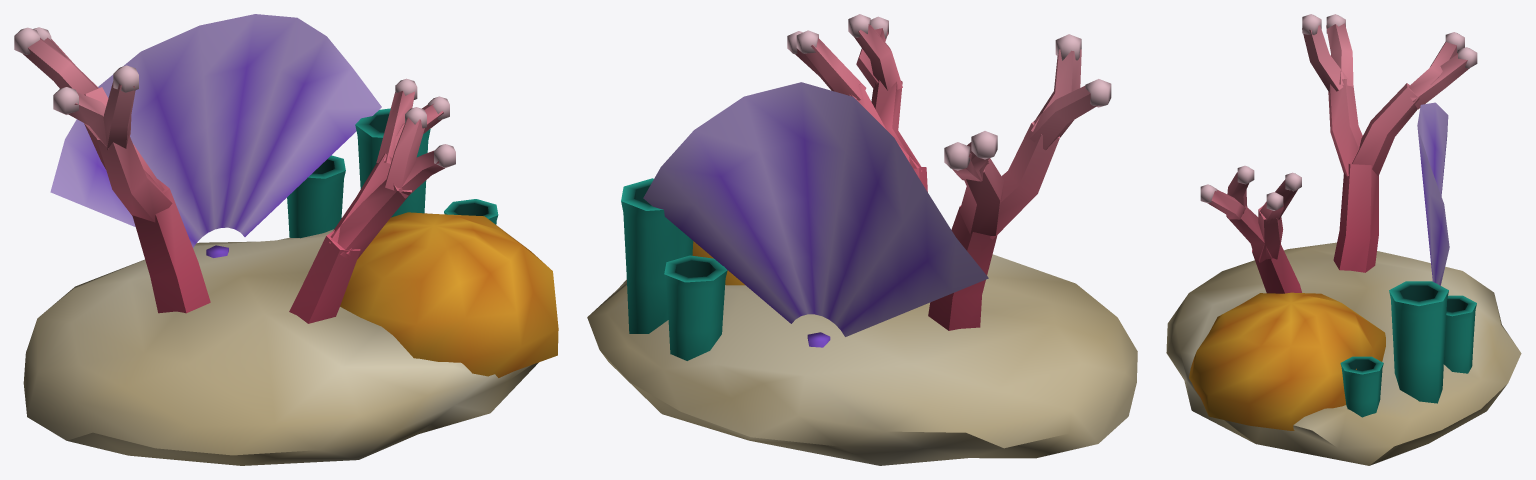
File: coral.glb
3 renders of one model, left to right at view 1: azimuth 30°, elevation 25°; view 2: azimuth 150°, elevation 25°; view 3: azimuth 270°, elevation 25°, orthographic. The views are drawn at different scales.
Visible parts, largest first — view 1: coral; view 2: coral; view 3: coral.
Part boxes in pixels (left/top/right/bottom): coral: left=14, top=14, right=558, bottom=465; coral: left=587, top=14, right=1137, bottom=465; coral: left=1166, top=14, right=1521, bottom=465.
Bounding box in the file's own units: 0.9439 × 0.6688 × 0.7487.
